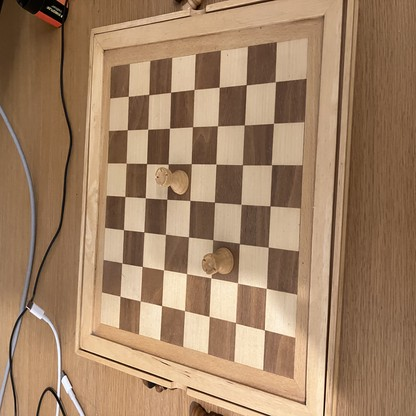rock_white: (156, 167, 189, 195), (203, 248, 233, 274)
